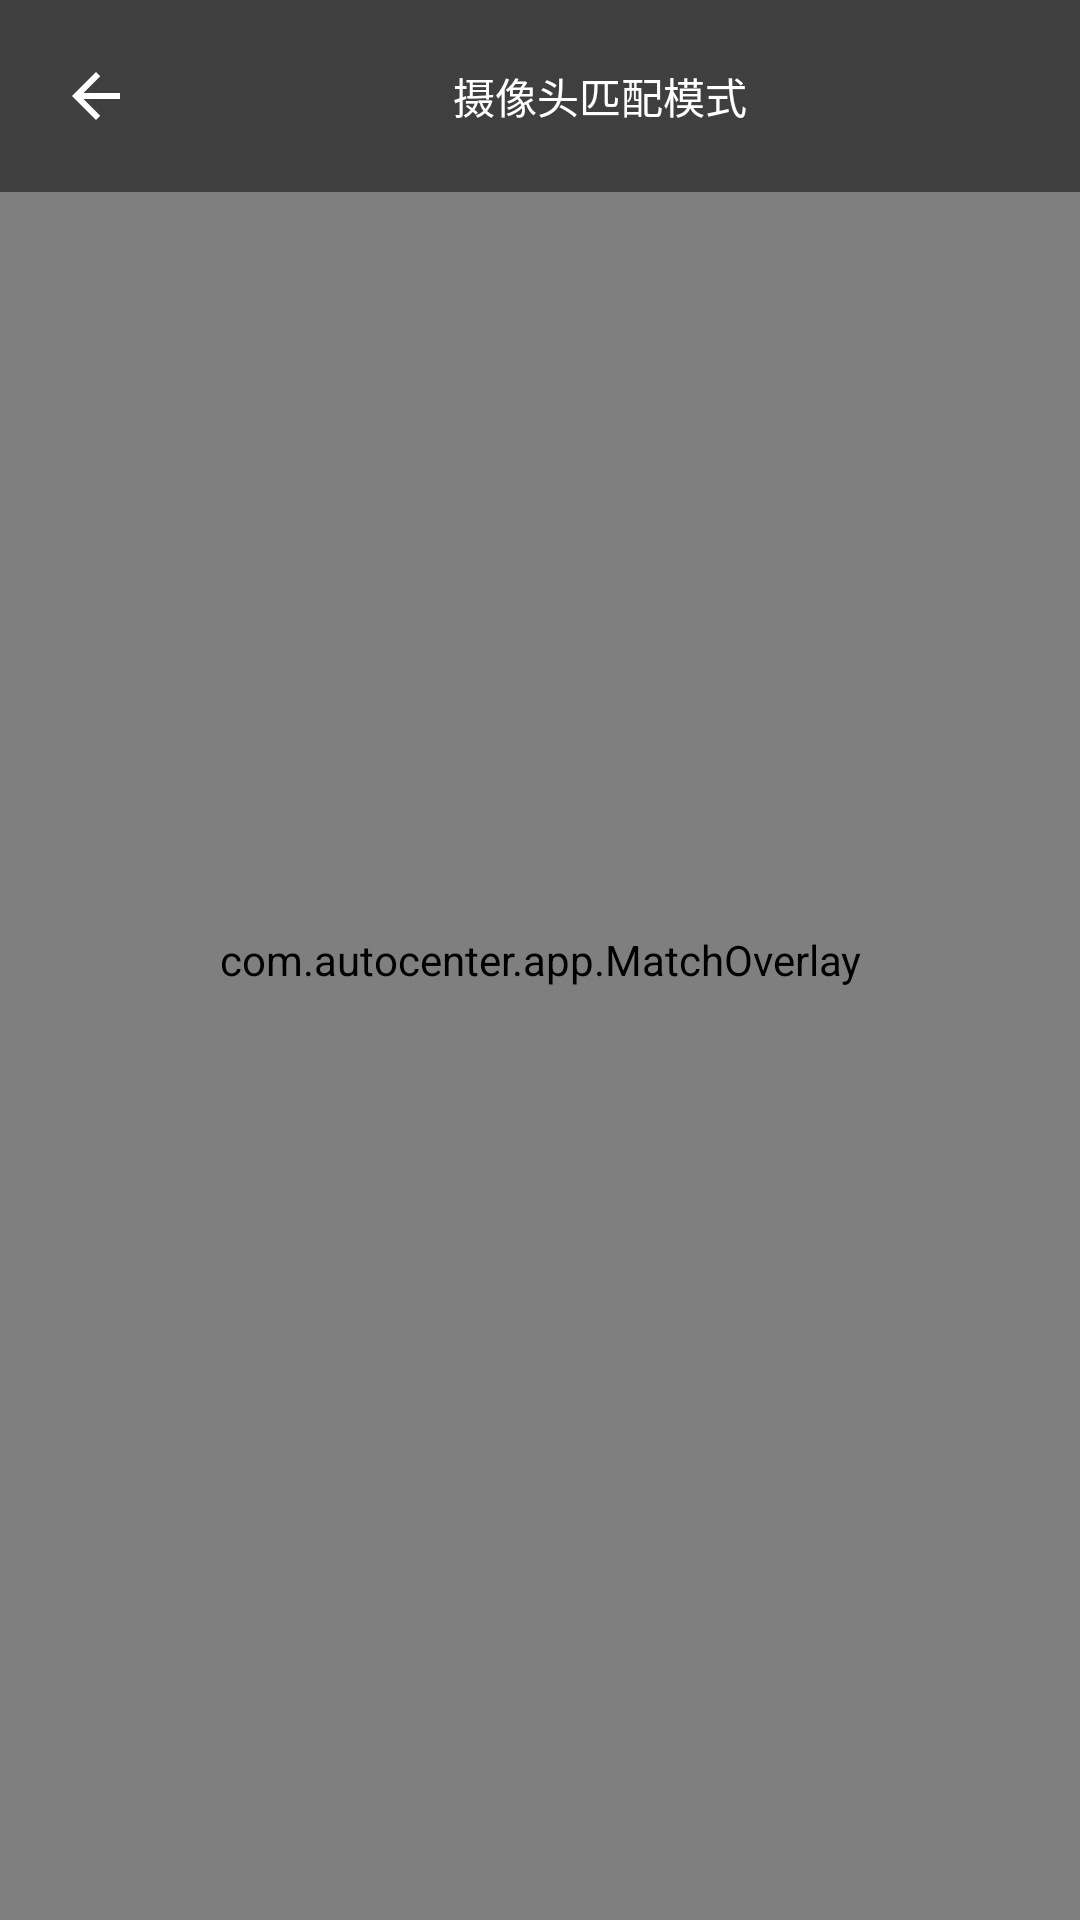

Icons on this 1080×1920 Android screen, each with its box as bbox(x1, y1, x2, y2):
返回: bbox(72, 72, 120, 120)
